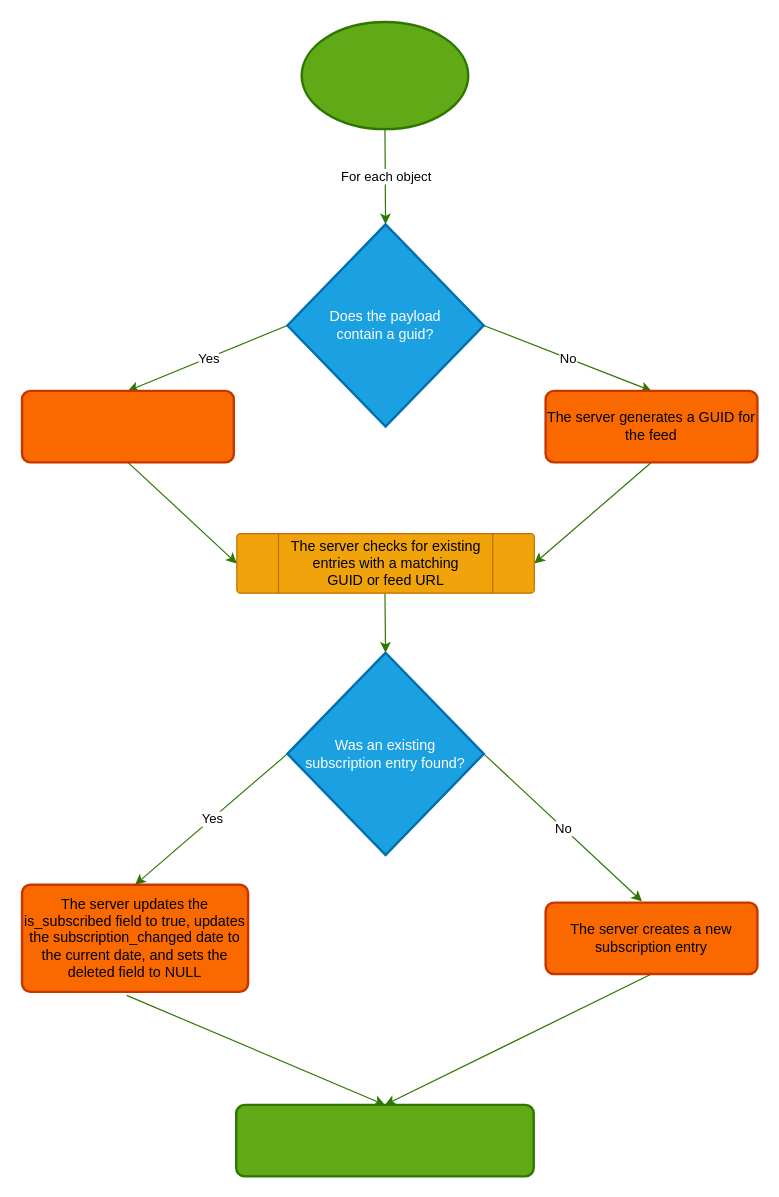
Some shapes in this 779 by 1197 pixel diagram are drawn without their labels. Here are the shapes that lost their labels. From the top down, the centre of each, then its label:
At point (384, 75): "The client posts a subscription payload".
At point (127, 426): "The server stores the GUID for the feed".
At point (384, 1140): "The server returns a success payload".
